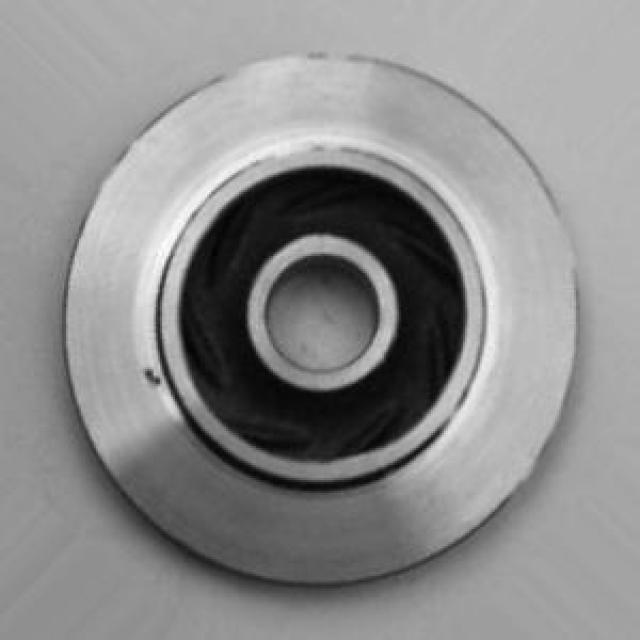Defect: (136, 356, 175, 392)
